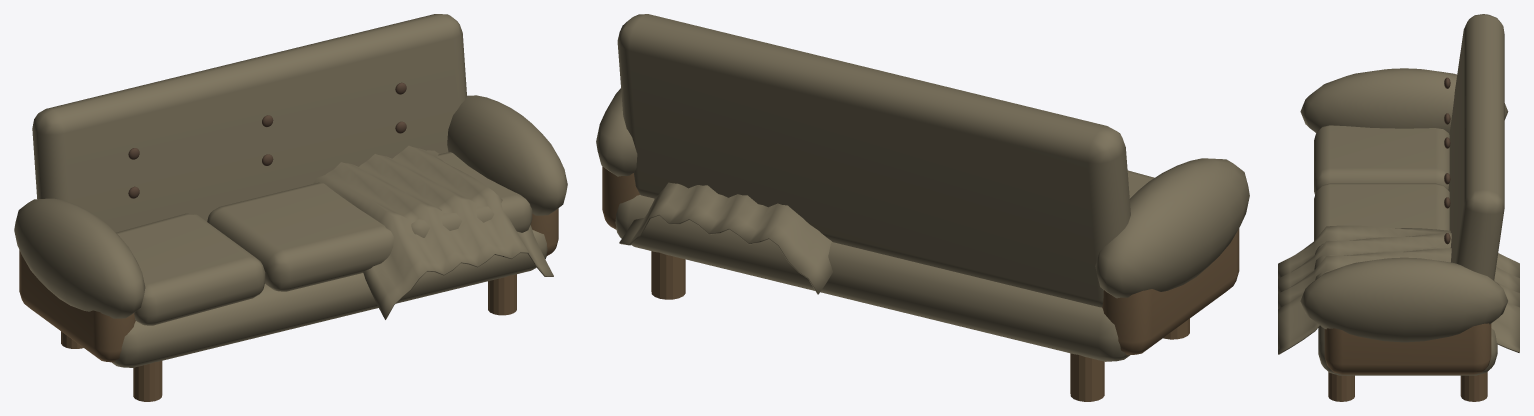
File: sofa.glb
3 renders of one model, left to right at view 1: azimuth 30°, elevation 25°; view 2: azimuth 150°, elevation 25°; view 3: azimuth 270°, elevation 25°, orthographic. The views are drawn at different scales.
Parts seen in each view (by area): view 1: sofa; view 2: sofa; view 3: sofa.
Part boxes in pixels (x1,y1,x2,y2): sofa: (14, 14, 567, 401); sofa: (596, 14, 1249, 401); sofa: (1278, 14, 1519, 401).
Bounding box in the file's own units: 2.9 × 1.32 × 1.35.
